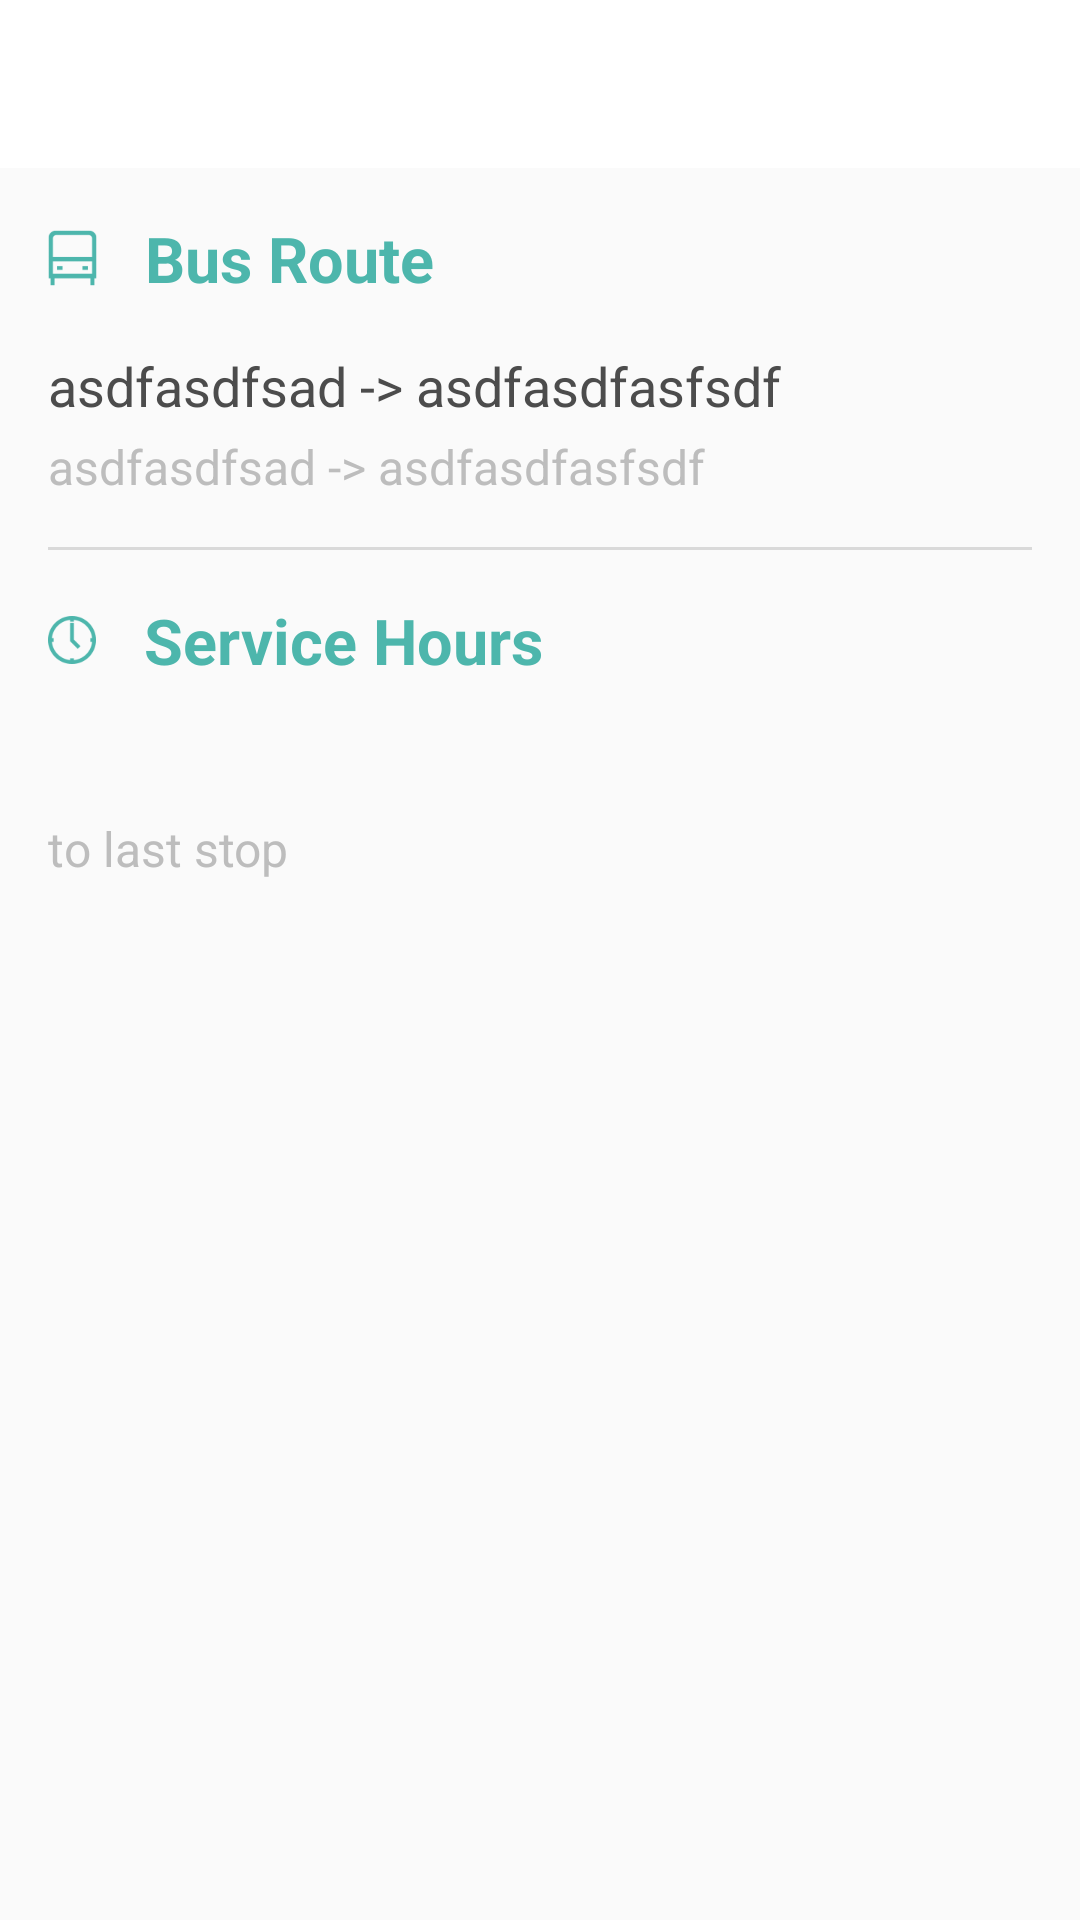

Icons on this 1080×1920 Android screen, each with its box as Rect(x1, y1, x2, y2):
businfoinfo route: Rect(48, 230, 97, 286)
businfoinfo servicehour: Rect(48, 616, 96, 664)
